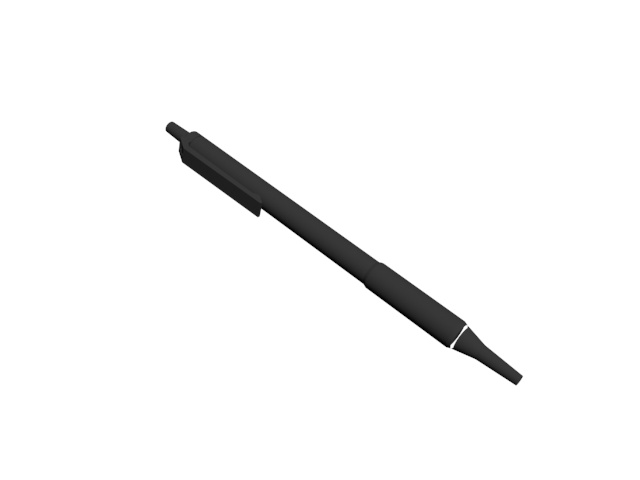pen: (161, 121, 528, 392)
